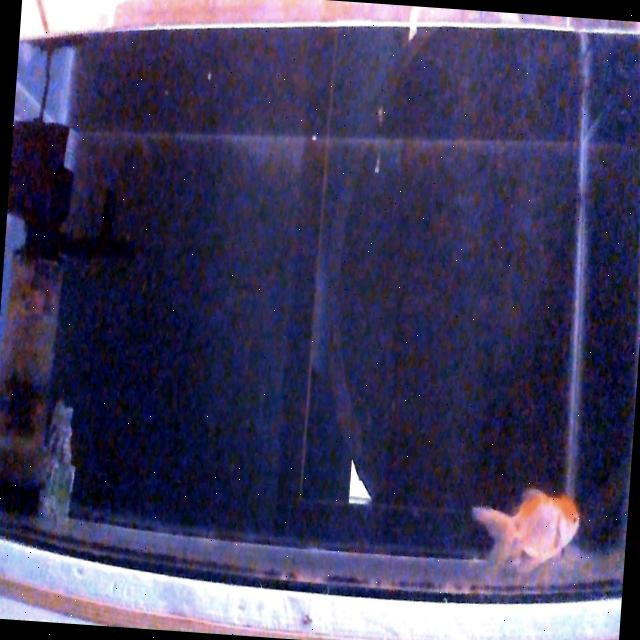fish: (469, 484, 581, 570)
